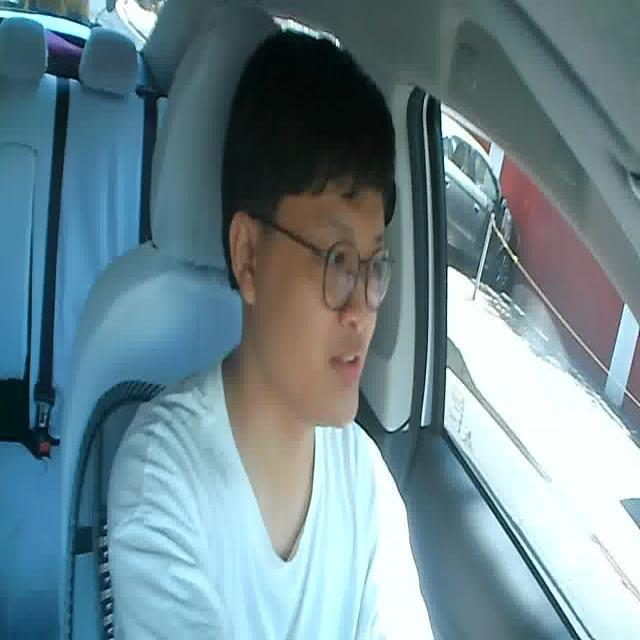Attentive: (225, 37, 398, 422)
Eye-Open: (324, 244, 349, 267), (364, 253, 386, 275)
Normal: (325, 342, 365, 379)
